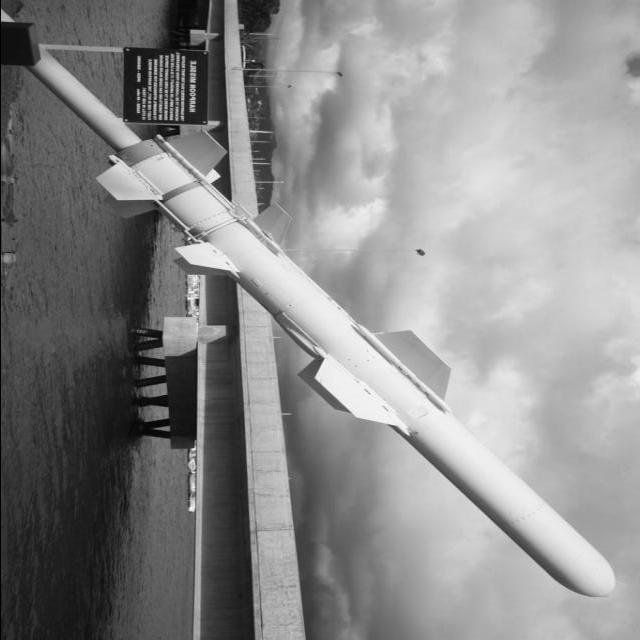missile: (58, 86, 640, 631)
